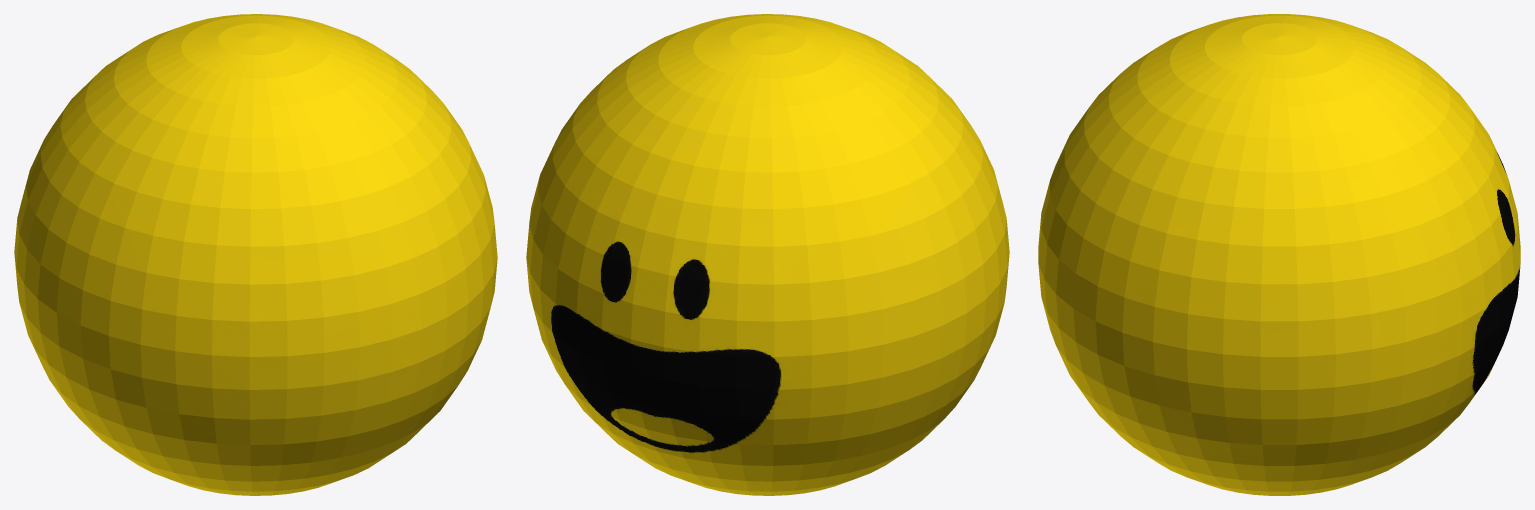
The model's file is verity.fbx.
The picture shows the model from 3 angles, left to right: view 1: azimuth 30°, elevation 25°; view 2: azimuth 150°, elevation 25°; view 3: azimuth 270°, elevation 25°; orthographic projection.
Visible parts, largest first — view 1: sphere_4; view 2: sphere_4; view 3: sphere_4.
Part boxes in pixels (x1,y1,x2,y2): sphere_4: (14,14,497,495); sphere_4: (526,14,1009,495); sphere_4: (1038,14,1520,495).
Bounding box in the file's own units: 0.6875 × 0.6875 × 0.6875.
Materials: 5 (5 with a texture image).
